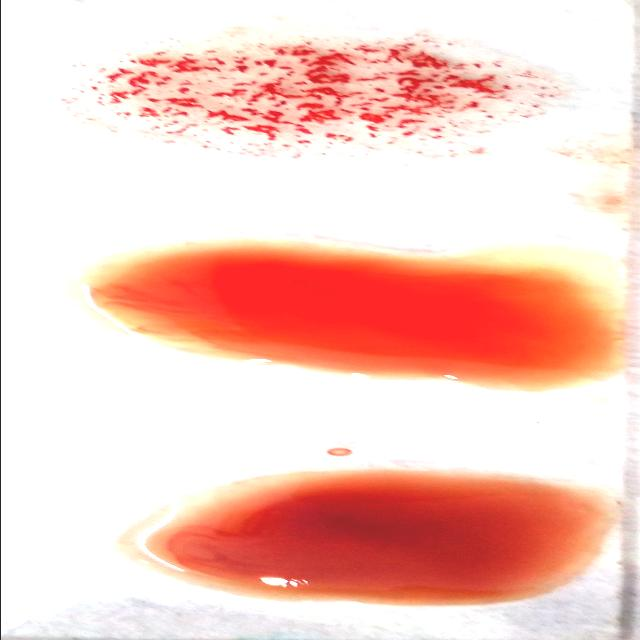D: (74, 38, 572, 158)
